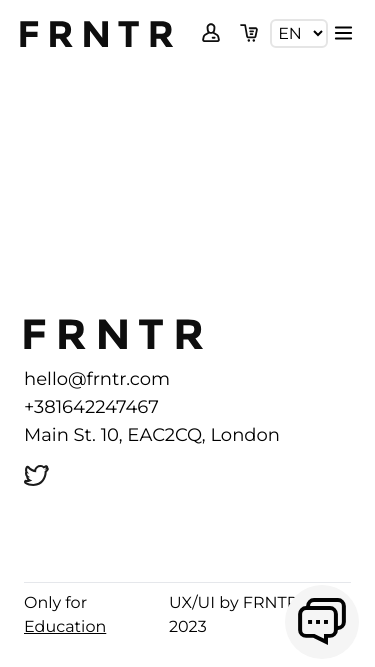
Test: navigation tests › mobile test navigation
Expected: the text "browse categories" is not shown
Click the button named "Open navigation": (344,34) [332, 22, 355, 45]
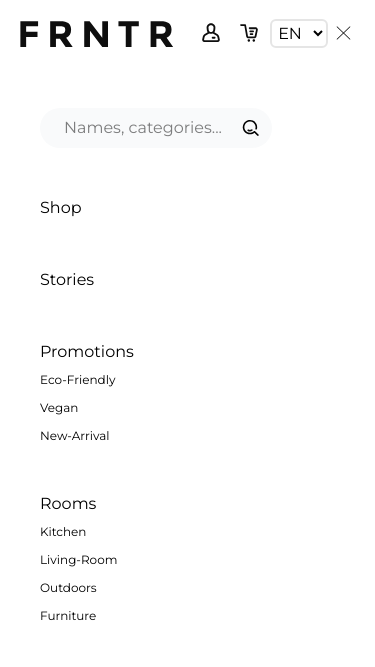
Click the link "Shop": (61,208) [40, 198, 82, 217]
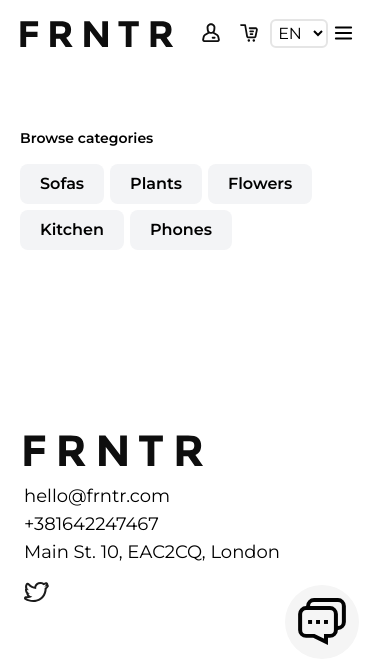
Result: the heading "Browse categories" is shown at [20, 129, 153, 147]
